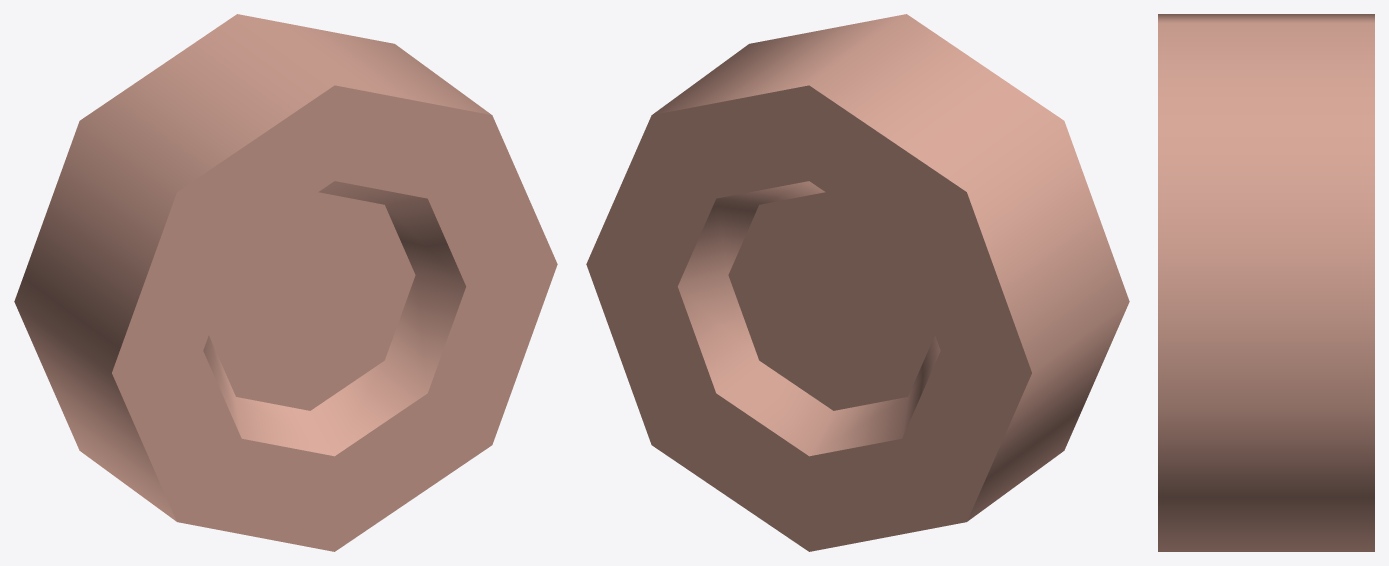
File: frisbee_red.glb
3 views of the same model, side by side, from view 1: azimuth 30°, elevation 25°; view 2: azimuth 150°, elevation 25°; view 3: azimuth 270°, elevation 25° (orthographic). The views are drawn at different scales.
Parts seen in each view (by area): view 1: frisbee_red; view 2: frisbee_red; view 3: frisbee_red.
Boxes of the visible parts, x1=… form: frisbee_red: x1=14, y1=14, x2=557, y2=551; frisbee_red: x1=586, y1=14, x2=1129, y2=551; frisbee_red: x1=1158, y1=14, x2=1374, y2=551.
Bounding box in the file's own units: 12 × 12 × 4.55.
